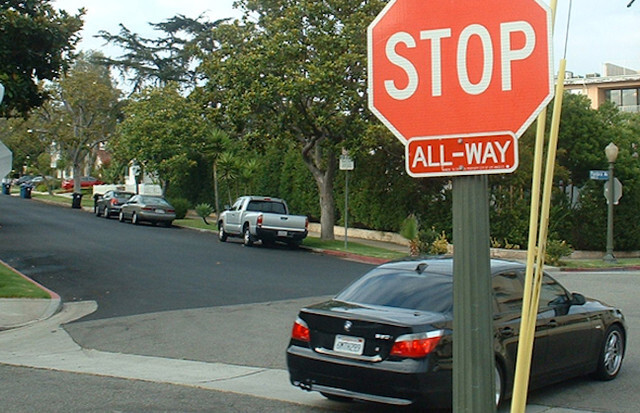stop_sign: (366, 1, 555, 138)
